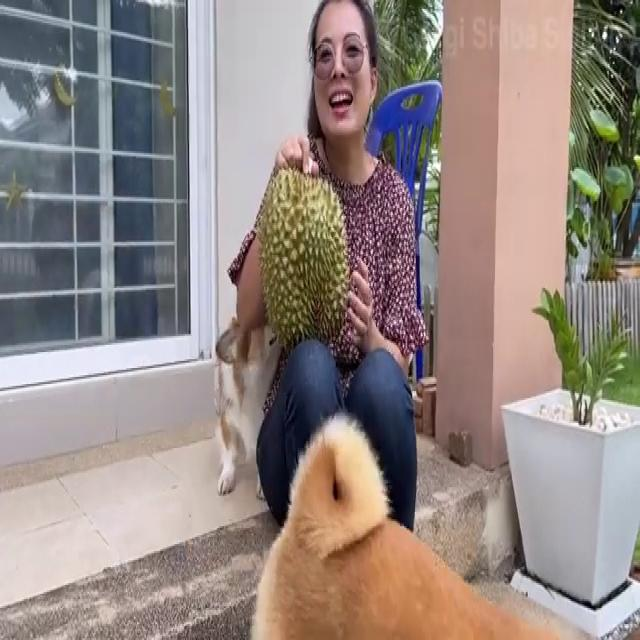durian: (256, 162, 351, 354)
